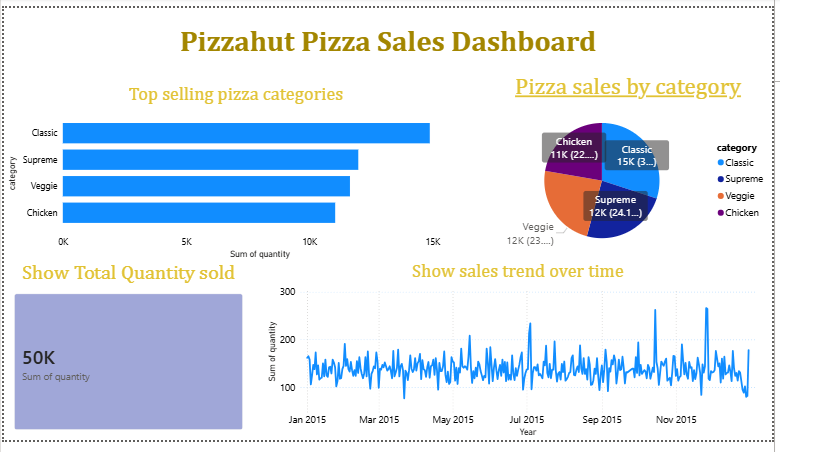

The page's visual inventory and layout, read from the dashboard file:
{"tool":"powerbi","page":{"name":"Page 1","canvas":[1280,720],"ordinal":0},"visuals":[{"type":"pieChart","title":"Pizza sales by category","fields":{"Category":["pizzahut pizza_types.category"],"Y":["Sum(pizzahut orders_details.quantity)"]},"box":[800,106,480,316],"z":0},{"type":"barChart","title":"Top selling pizza categories","fields":{"Category":["pizzahut pizza_types.category"],"Y":["Sum(pizzahut orders_details.quantity)"]},"box":[0,122,774,298],"z":1},{"type":"lineChart","title":"Show sales trend over time","fields":{"Y":["Sum(pizzahut orders_details.quantity)"],"Category":["pizzahut orders.order_date.Variation.Date Hierarchy.Year","pizzahut orders.order_date.Variation.Date Hierarchy.Quarter","pizzahut orders.order_date.Variation.Date Hierarchy.Month","pizzahut orders.order_date.Variation.Date Hierarchy.Day"]},"box":[388,420,892,300],"z":2},{"type":"cardVisual","title":"Show Total Quantity sold","fields":{"Data":["Sum(pizzahut orders_details.quantity)"]},"box":[0,420,415,300],"z":3},{"type":"textbox","box":[0,20,1280,86],"z":4}]}

Visuals, with their boxes in screenshot pixels (x1, y1, x2, y2), scaled from the page's 1280x720 canvas onto the 819x460 screenshot:
"Pizza sales by category" pieChart: 512/68/818/270
"Top selling pizza categories" barChart: 0/78/495/268
"Show sales trend over time" lineChart: 248/268/818/459
"Show Total Quantity sold" cardVisual: 0/268/266/459
textbox: 0/13/818/68
